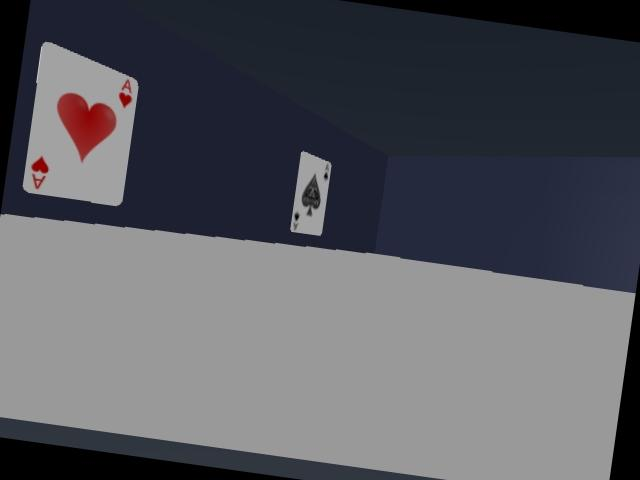heart: (23, 43, 137, 205)
spade: (290, 152, 330, 235)
